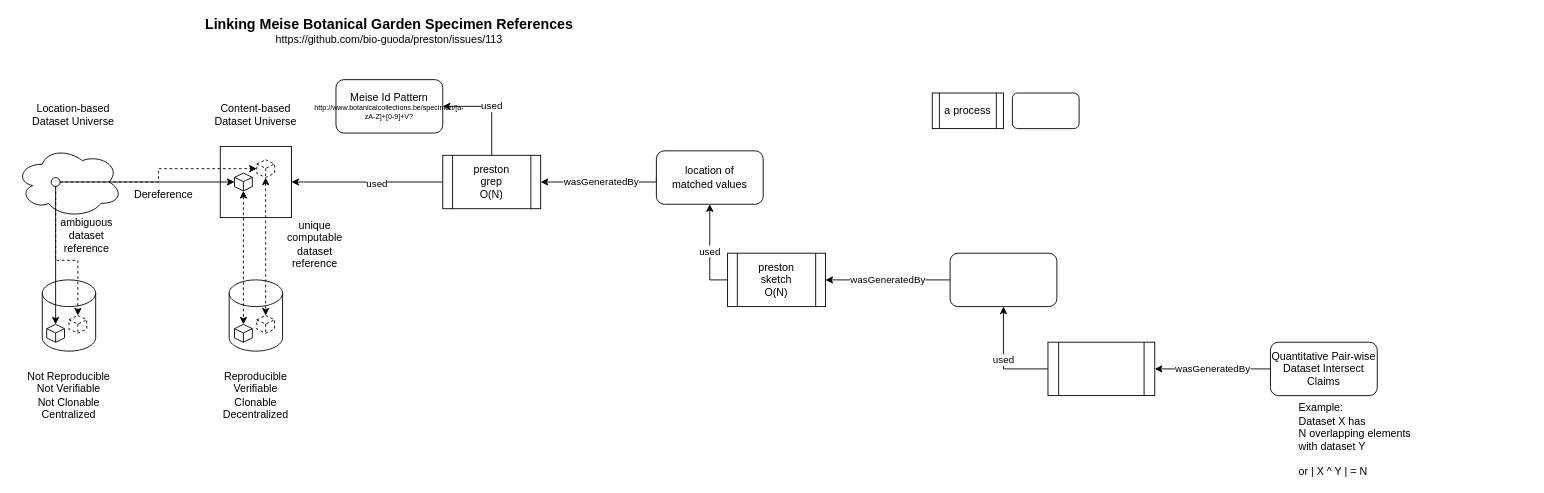
Some shapes in this 1544 by 493 pixel diagram are drawn without their labels. Here are the shapes that lost their labels. From the top down, the centre of each, then its label:
At (1045,110): "an entity".
At (1003,279): "Serialized Sketches (bloom filter/theta sketch)".
At (1101,368): "preston diff O(N 2 )".
